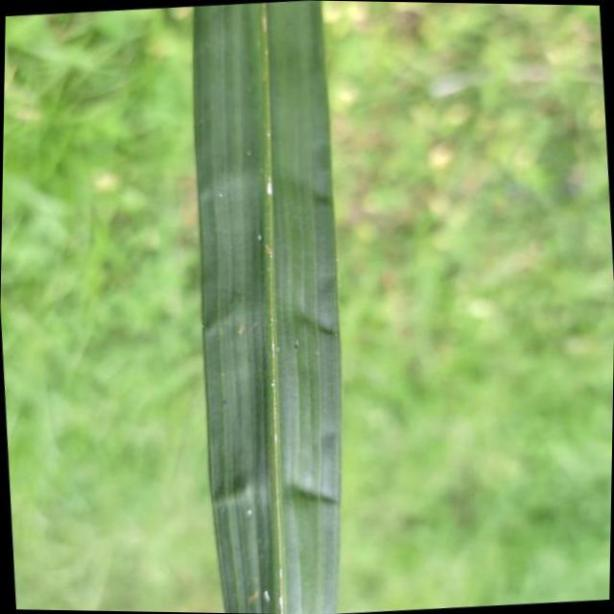Boron: (190, 6, 341, 614)
